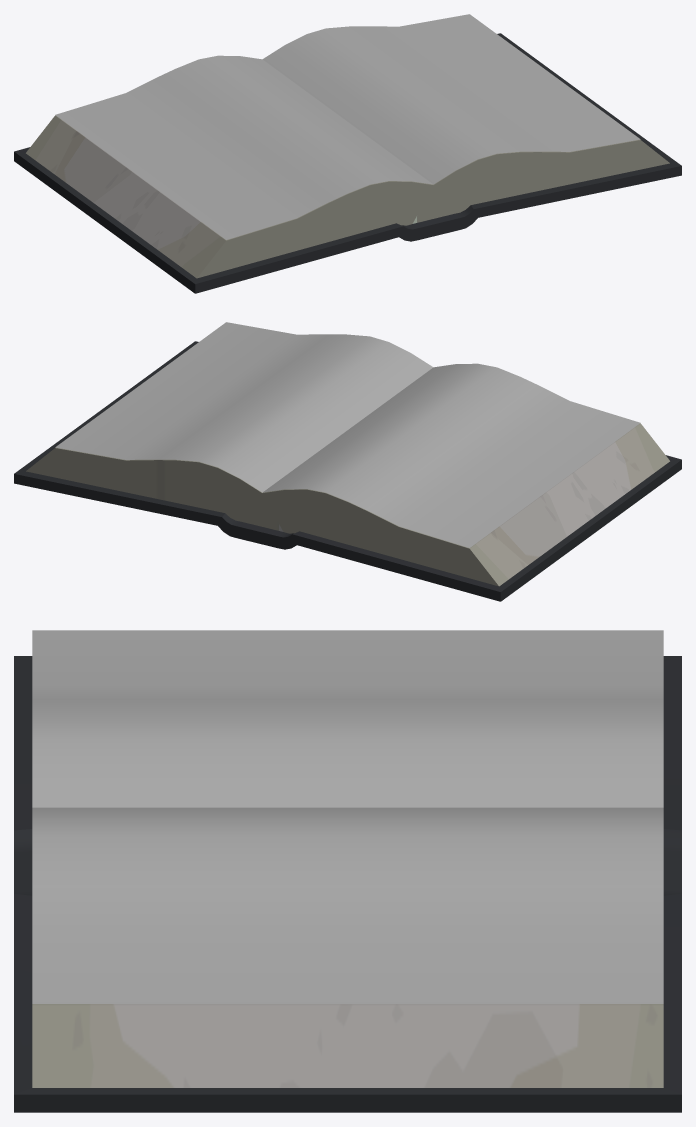
File: SM_Prop_Book_Open_02.fbx
The picture shows the model from 3 angles, top to bottom: view 1: azimuth 30°, elevation 25°; view 2: azimuth 150°, elevation 25°; view 3: azimuth 270°, elevation 25°; orthographic projection. The views are drawn at different scales.
Parts seen in each view (by area): view 1: SM_Prop_Book_Open_02, PageContentLeft, PageContentRight; view 2: SM_Prop_Book_Open_02, PageContentLeft, PageContentRight; view 3: PageContentRight, PageContentLeft, SM_Prop_Book_Open_02.
Part boxes in pixels (left/top/right/bottom): SM_Prop_Book_Open_02: left=14, top=33, right=681, bottom=293; PageContentLeft: left=55, top=55, right=432, bottom=239; PageContentRight: left=262, top=14, right=640, bottom=184; SM_Prop_Book_Open_02: left=14, top=341, right=681, bottom=601; PageContentLeft: left=263, top=363, right=640, bottom=547; PageContentRight: left=55, top=322, right=433, bottom=492; PageContentRight: left=32, top=807, right=663, bottom=1003; PageContentLeft: left=32, top=630, right=663, bottom=807; SM_Prop_Book_Open_02: left=14, top=656, right=681, bottom=1112.
Bounding box in the file's own units: 50.97 × 6.25 × 32.86.
Materials: 2 (1 with a texture image).
